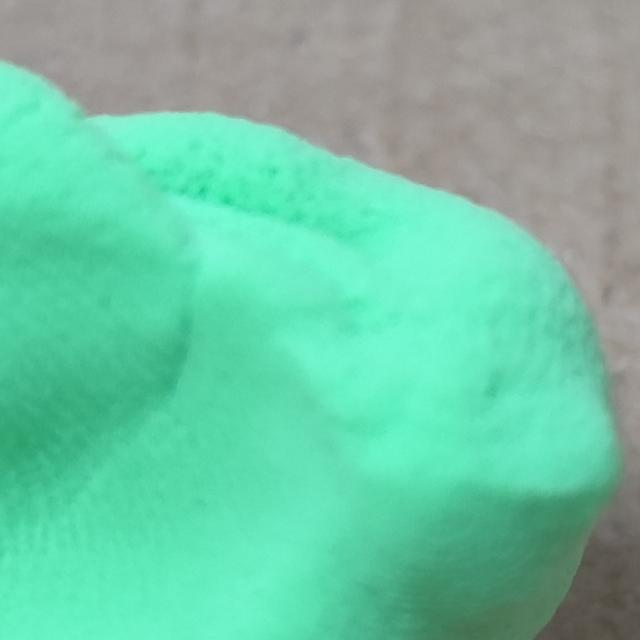good: (0, 65, 615, 640)
